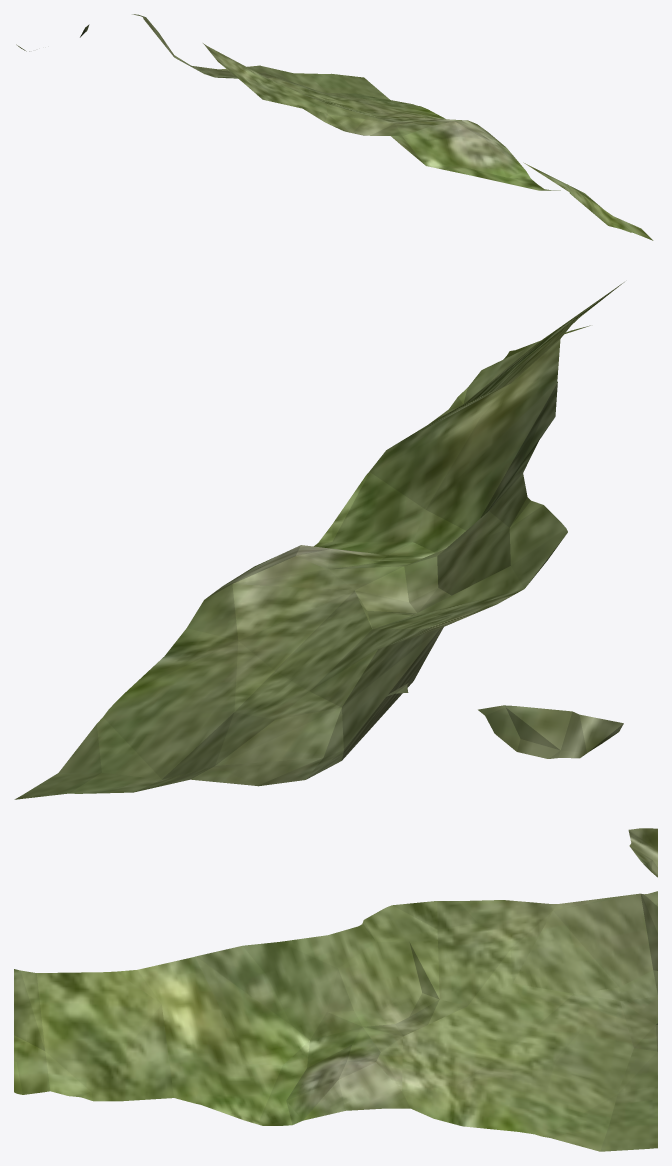
3 views of the same model, one above another, from view 1: azimuth 30°, elevation 25°; view 2: azimuth 150°, elevation 25°; view 3: azimuth 270°, elevation 25° (orthographic). The views are drawn at different scales.
Bounding box in the file's own units: 2.04 × 0.6858 × 2.95.
Materials: 1 (1 with a texture image).
